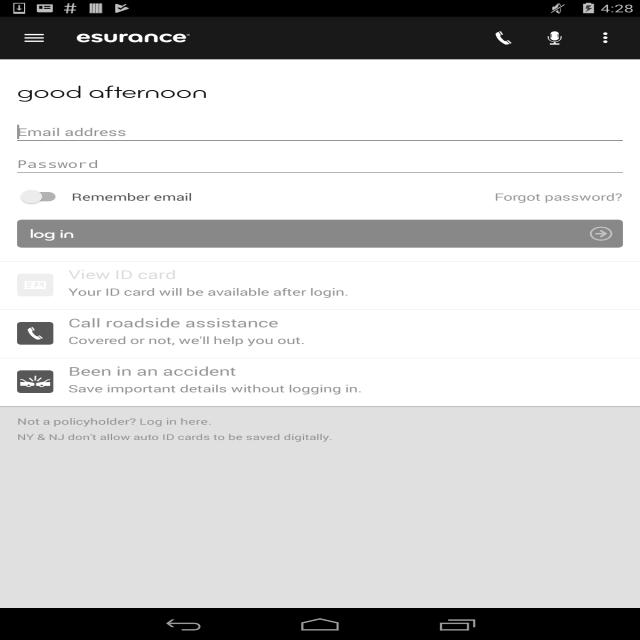Button: (17, 220, 623, 248)
EditText: (17, 120, 623, 144), (17, 152, 623, 175)
ImageButton: (8, 22, 59, 54)
ImageView: (60, 34, 190, 42), (17, 322, 53, 345), (17, 370, 53, 393), (17, 274, 53, 296)
Switch: (17, 188, 67, 205)
TextView: (17, 81, 208, 103), (68, 285, 350, 299), (68, 382, 363, 395), (69, 314, 278, 330), (68, 333, 306, 347), (17, 432, 332, 442), (68, 363, 236, 379), (17, 416, 212, 428), (494, 190, 623, 204), (68, 266, 176, 282), (71, 190, 192, 204), (580, 22, 632, 54), (478, 22, 529, 54), (529, 22, 580, 54)
